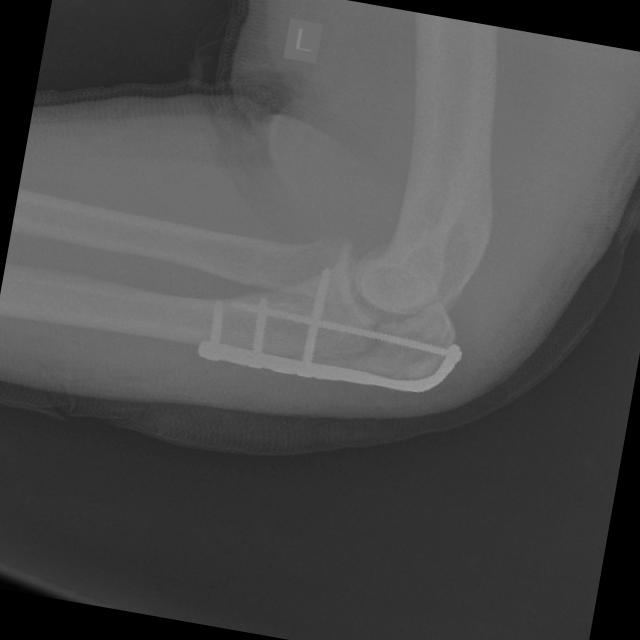elbow positive: (301, 318, 415, 381)
